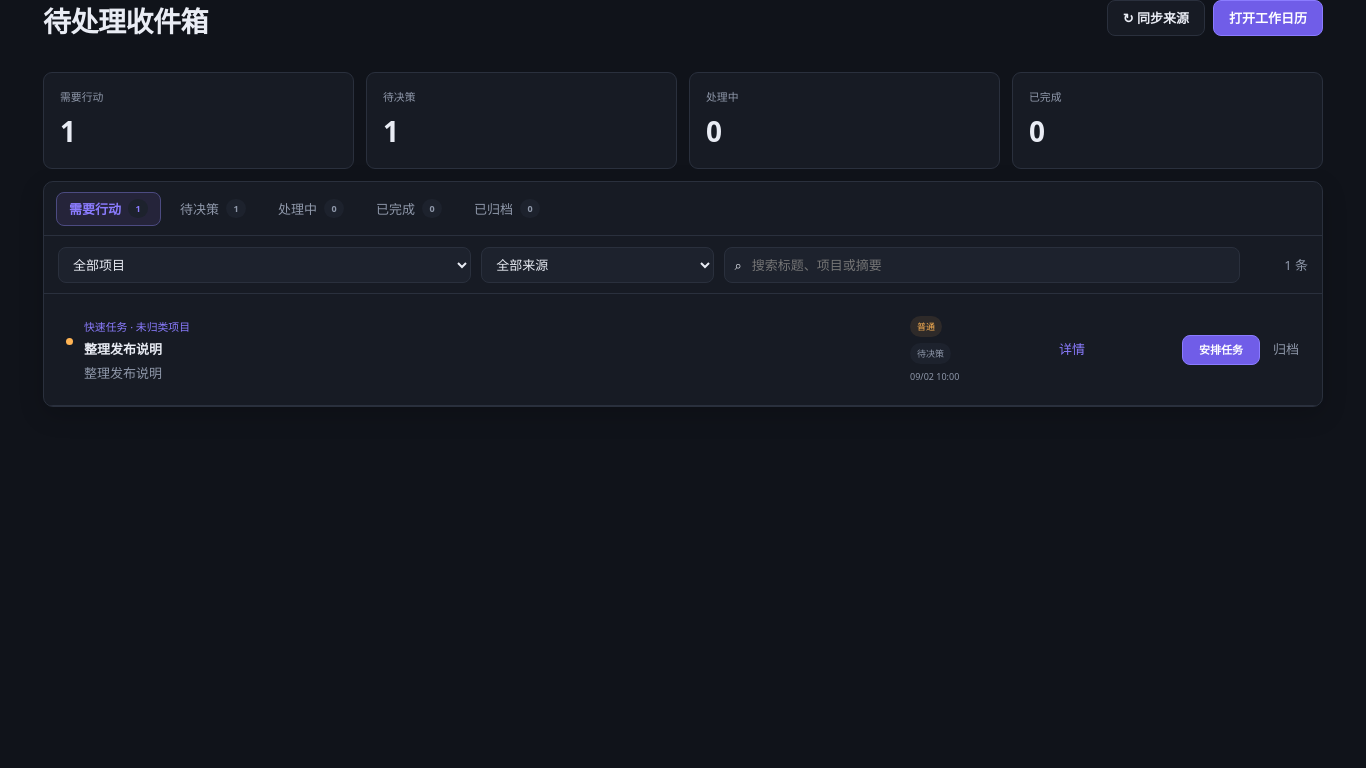
Test: InboxView › 复用已有建议任务时读取实际状态，不强制改成待办
Click the button "安排任务".
click(1221, 350)  # box [1182,334,1260,364]
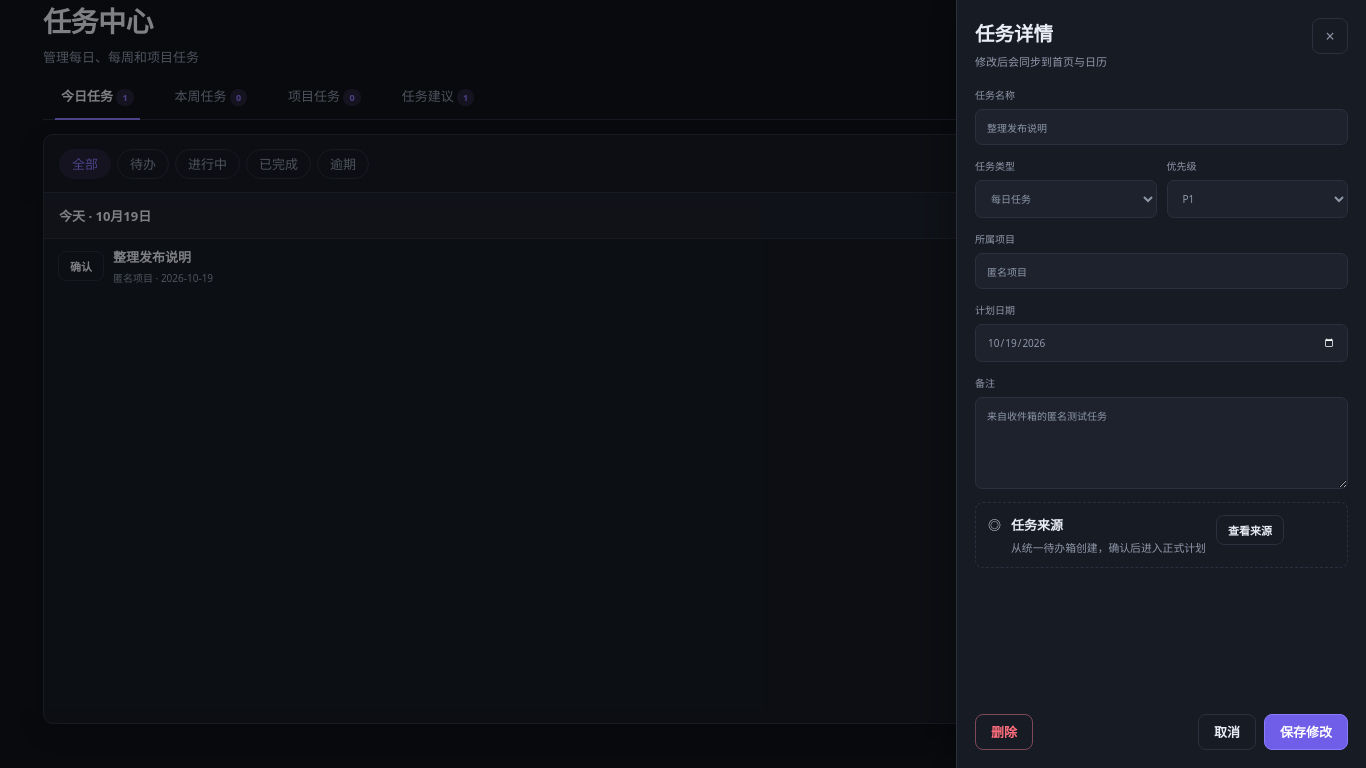
Result: the heading "任务详情" is shown at [975,20,1053,47]
